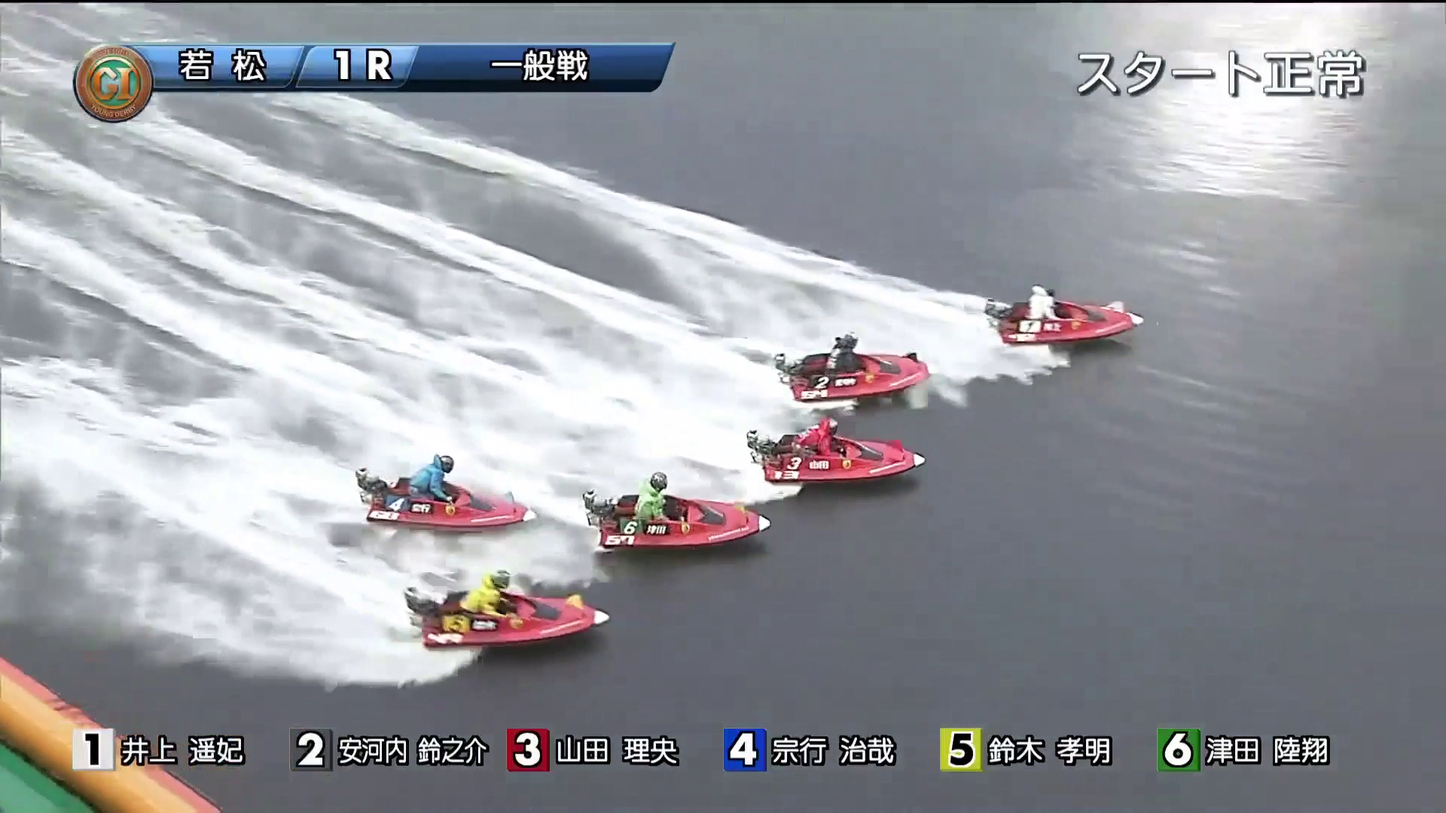１号艇: (1005, 294, 1143, 348)
２号艇: (789, 339, 917, 399)
３号艇: (788, 429, 929, 475)
４号艇: (612, 487, 732, 552)
５号艇: (370, 483, 494, 538)
６号艇: (489, 600, 589, 656)
